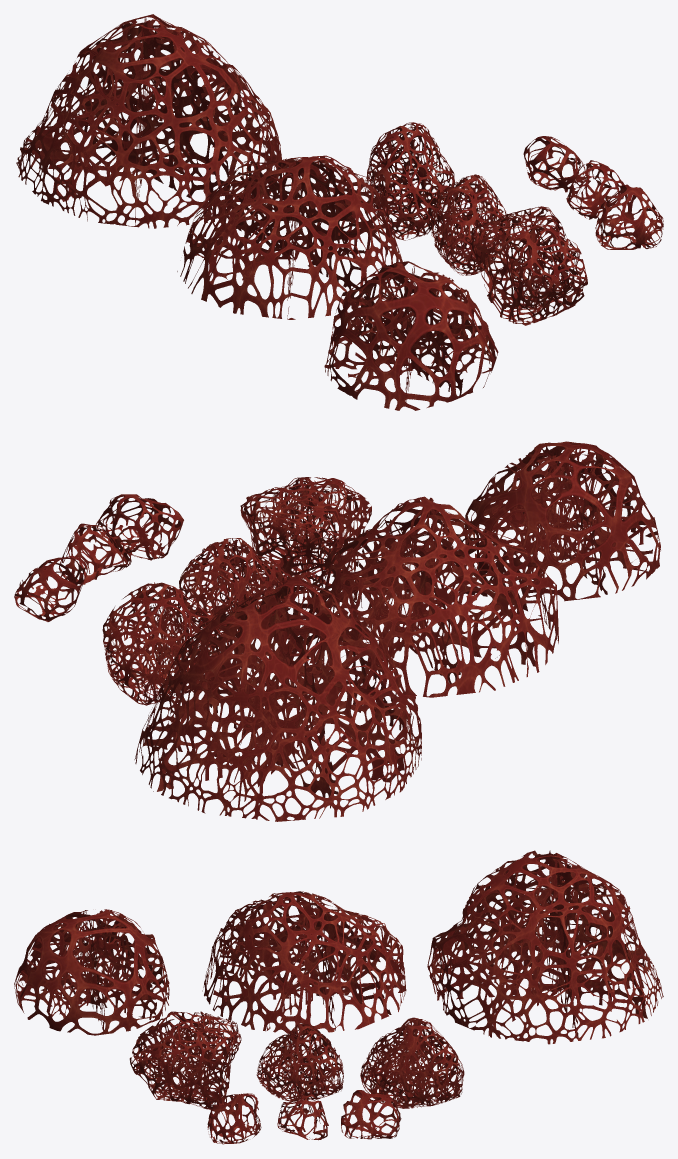
The model's file is fungal coral.fbx.
The picture shows the model from 3 angles, top to bottom: view 1: azimuth 30°, elevation 25°; view 2: azimuth 150°, elevation 25°; view 3: azimuth 270°, elevation 25°; orthographic projection. The views are drawn at different scales.
Visible parts, largest first — view 1: smd_mesh.002, smd_mesh.001, smd_mesh, smd_mesh.003, smd_mesh.005, smd_mesh.004, smd_mesh.006, smd_mesh.008, smd_mesh.007; view 2: smd_mesh.002, smd_mesh.001, smd_mesh, smd_mesh.003, smd_mesh.005, smd_mesh.004, smd_mesh.006, smd_mesh.008, smd_mesh.007; view 3: smd_mesh.002, smd_mesh.001, smd_mesh, smd_mesh.003, smd_mesh.005, smd_mesh.004, smd_mesh.008, smd_mesh.006, smd_mesh.007.
Part boxes in pixels (x1,y1,x2,y2): smd_mesh.002: [16, 14, 282, 228]; smd_mesh.001: [177, 155, 404, 319]; smd_mesh: [324, 261, 498, 410]; smd_mesh.003: [470, 206, 587, 325]; smd_mesh.005: [363, 122, 454, 240]; smd_mesh.004: [431, 174, 510, 275]; smd_mesh.006: [595, 184, 663, 249]; smd_mesh.008: [523, 136, 586, 192]; smd_mesh.007: [566, 160, 624, 219]; smd_mesh.002: [134, 577, 421, 821]; smd_mesh.001: [296, 496, 558, 697]; smd_mesh: [464, 441, 660, 601]; smd_mesh.003: [240, 477, 371, 597]; smd_mesh.005: [102, 582, 232, 705]; smd_mesh.004: [179, 538, 291, 641]; smd_mesh.006: [96, 494, 183, 560]; smd_mesh.008: [14, 555, 87, 621]; smd_mesh.007: [58, 523, 131, 584]; smd_mesh.002: [427, 850, 663, 1044]; smd_mesh.001: [202, 891, 406, 1035]; smd_mesh: [14, 909, 169, 1035]; smd_mesh.003: [129, 1011, 241, 1111]; smd_mesh.005: [360, 1017, 464, 1108]; smd_mesh.004: [256, 1023, 343, 1101]; smd_mesh.008: [341, 1090, 401, 1139]; smd_mesh.006: [207, 1093, 261, 1144]; smd_mesh.007: [277, 1093, 328, 1140].
Bounding box in the file's own units: 14.09 × 5.8 × 19.96.
